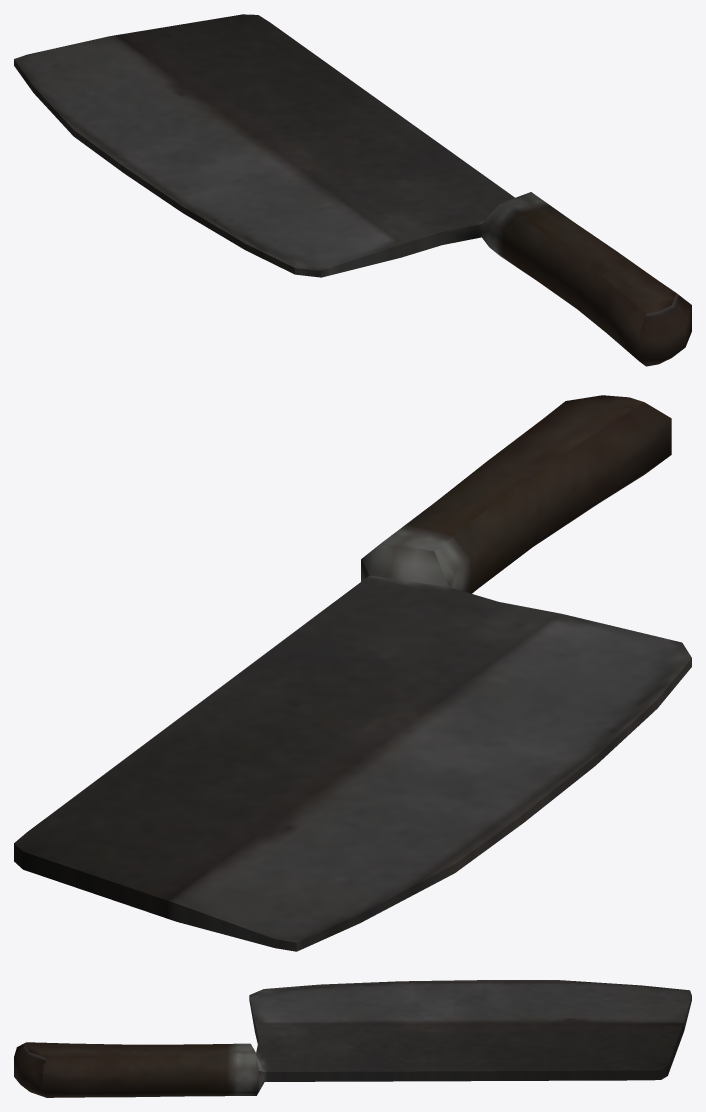
The model's file is kitchen_knife_1.obj.
The picture shows the model from 3 angles, top to bottom: view 1: azimuth 30°, elevation 25°; view 2: azimuth 150°, elevation 25°; view 3: azimuth 270°, elevation 25°; orthographic projection. The views are drawn at different scales.
Visible parts, largest first — view 1: kitchen_knife_1; view 2: kitchen_knife_1; view 3: kitchen_knife_1.
Boxes of the visible parts, left/top/right/bottom form: kitchen_knife_1: left=14, top=14, right=691, bottom=366; kitchen_knife_1: left=14, top=395, right=691, bottom=951; kitchen_knife_1: left=14, top=980, right=691, bottom=1097.
Bounding box in the file's own units: 0.1812 × 0.0334 × 0.5179.
